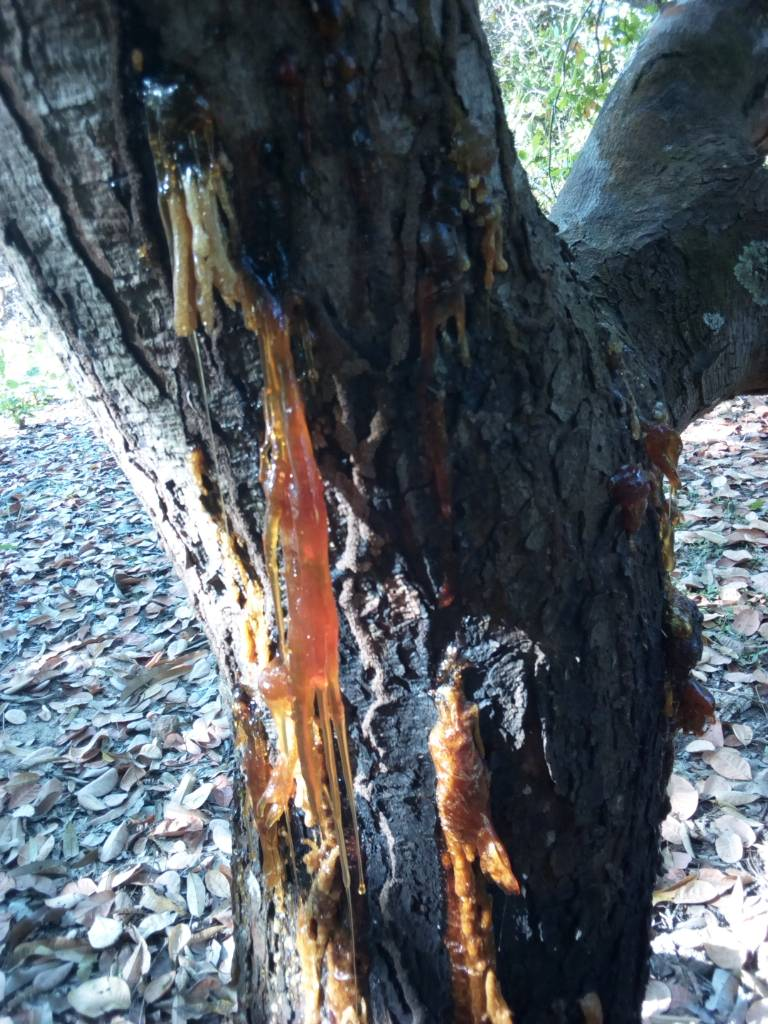Gommose: (186, 122, 540, 1024), (588, 417, 693, 999)
